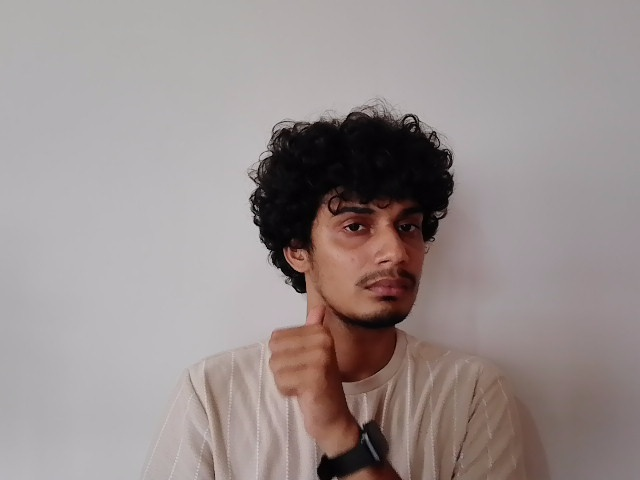not: (275, 295, 418, 397)
